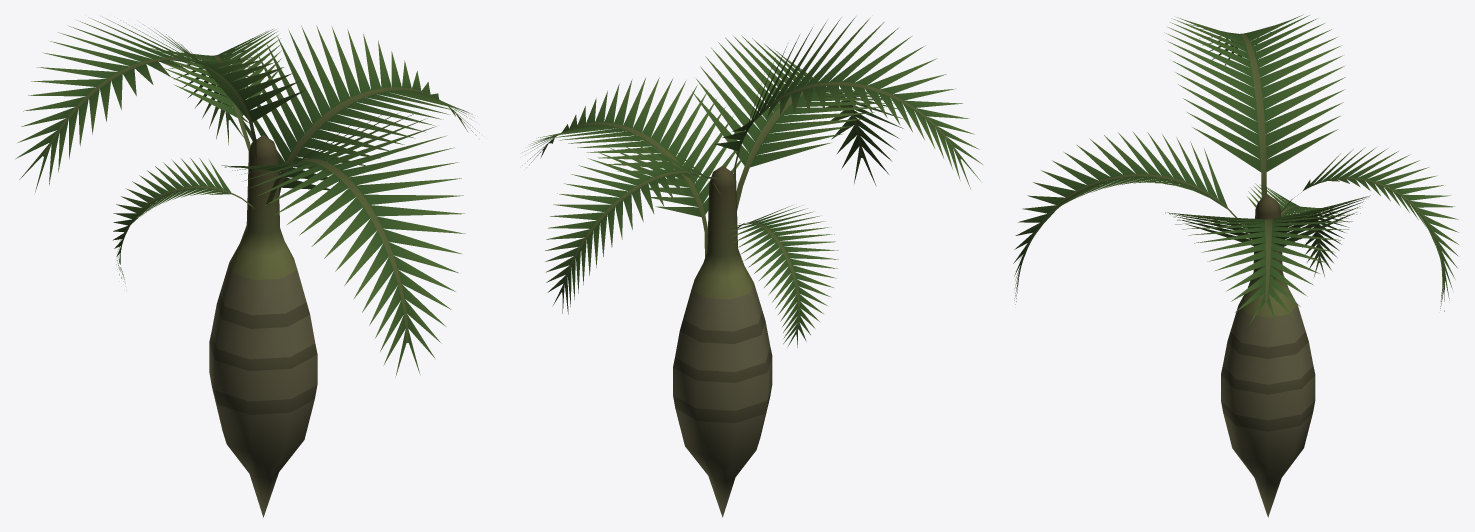
Rendered from trees-palms-ferns-bottle-palm_v2.fbx.
3 views of the same model, side by side, from view 1: azimuth 30°, elevation 25°; view 2: azimuth 150°, elevation 25°; view 3: azimuth 270°, elevation 25° (orthographic). The views are drawn at different scales.
Visible parts, largest first — view 1: Bottle Palm_v2; view 2: Bottle Palm_v2; view 3: Bottle Palm_v2.
Boxes of the visible parts, x1,y1,x2,y2 form: Bottle Palm_v2: [15, 17, 479, 517]; Bottle Palm_v2: [522, 17, 982, 517]; Bottle Palm_v2: [1013, 14, 1458, 517].
Bounding box in the file's own units: 3.74 × 4 × 3.66.
